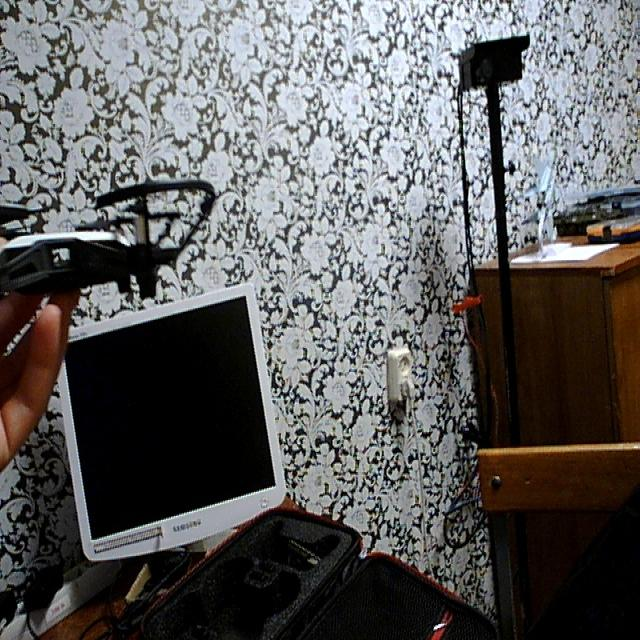drone: (0, 155, 229, 329)
